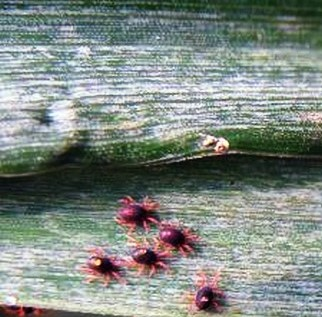Wheat Red Spider: (77, 244, 130, 291), (106, 191, 160, 234)
